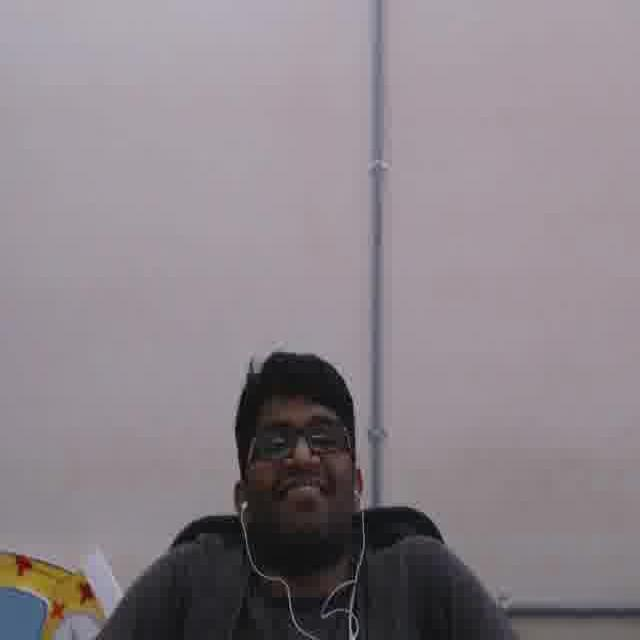Boredom: (249, 387, 348, 533)
